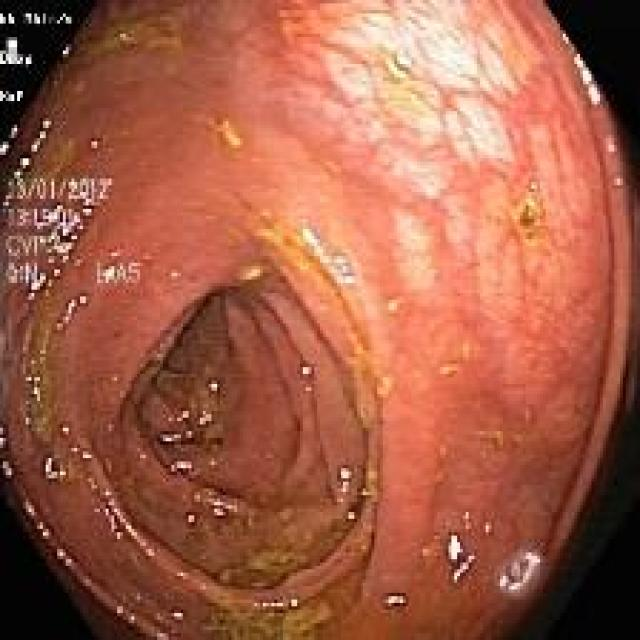ulcerative-colitis-grade-0-1: (191, 12, 598, 417)
